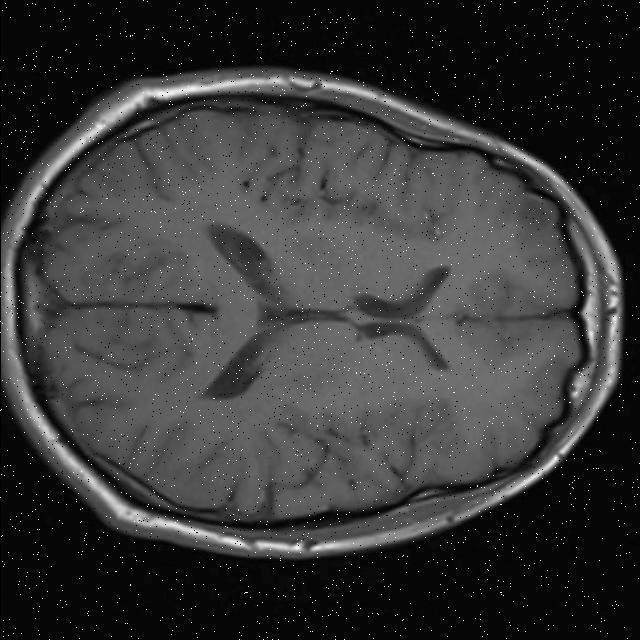No_Tumor: (2, 69, 622, 558)
